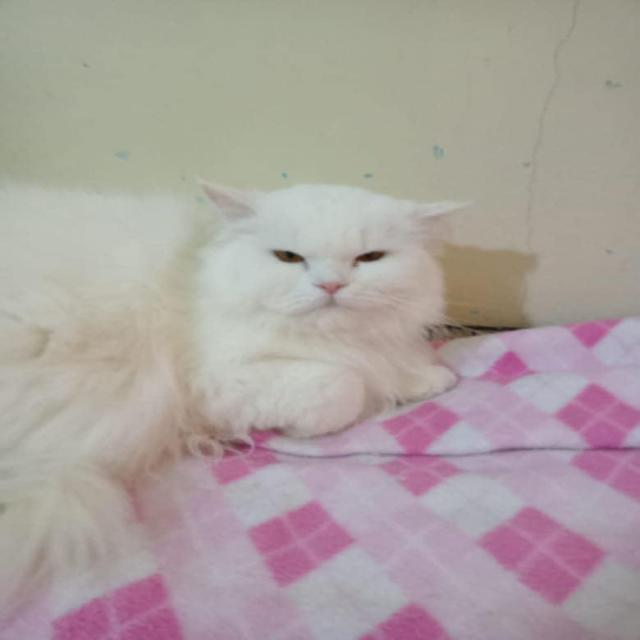persian_cat: (166, 171, 469, 372)
